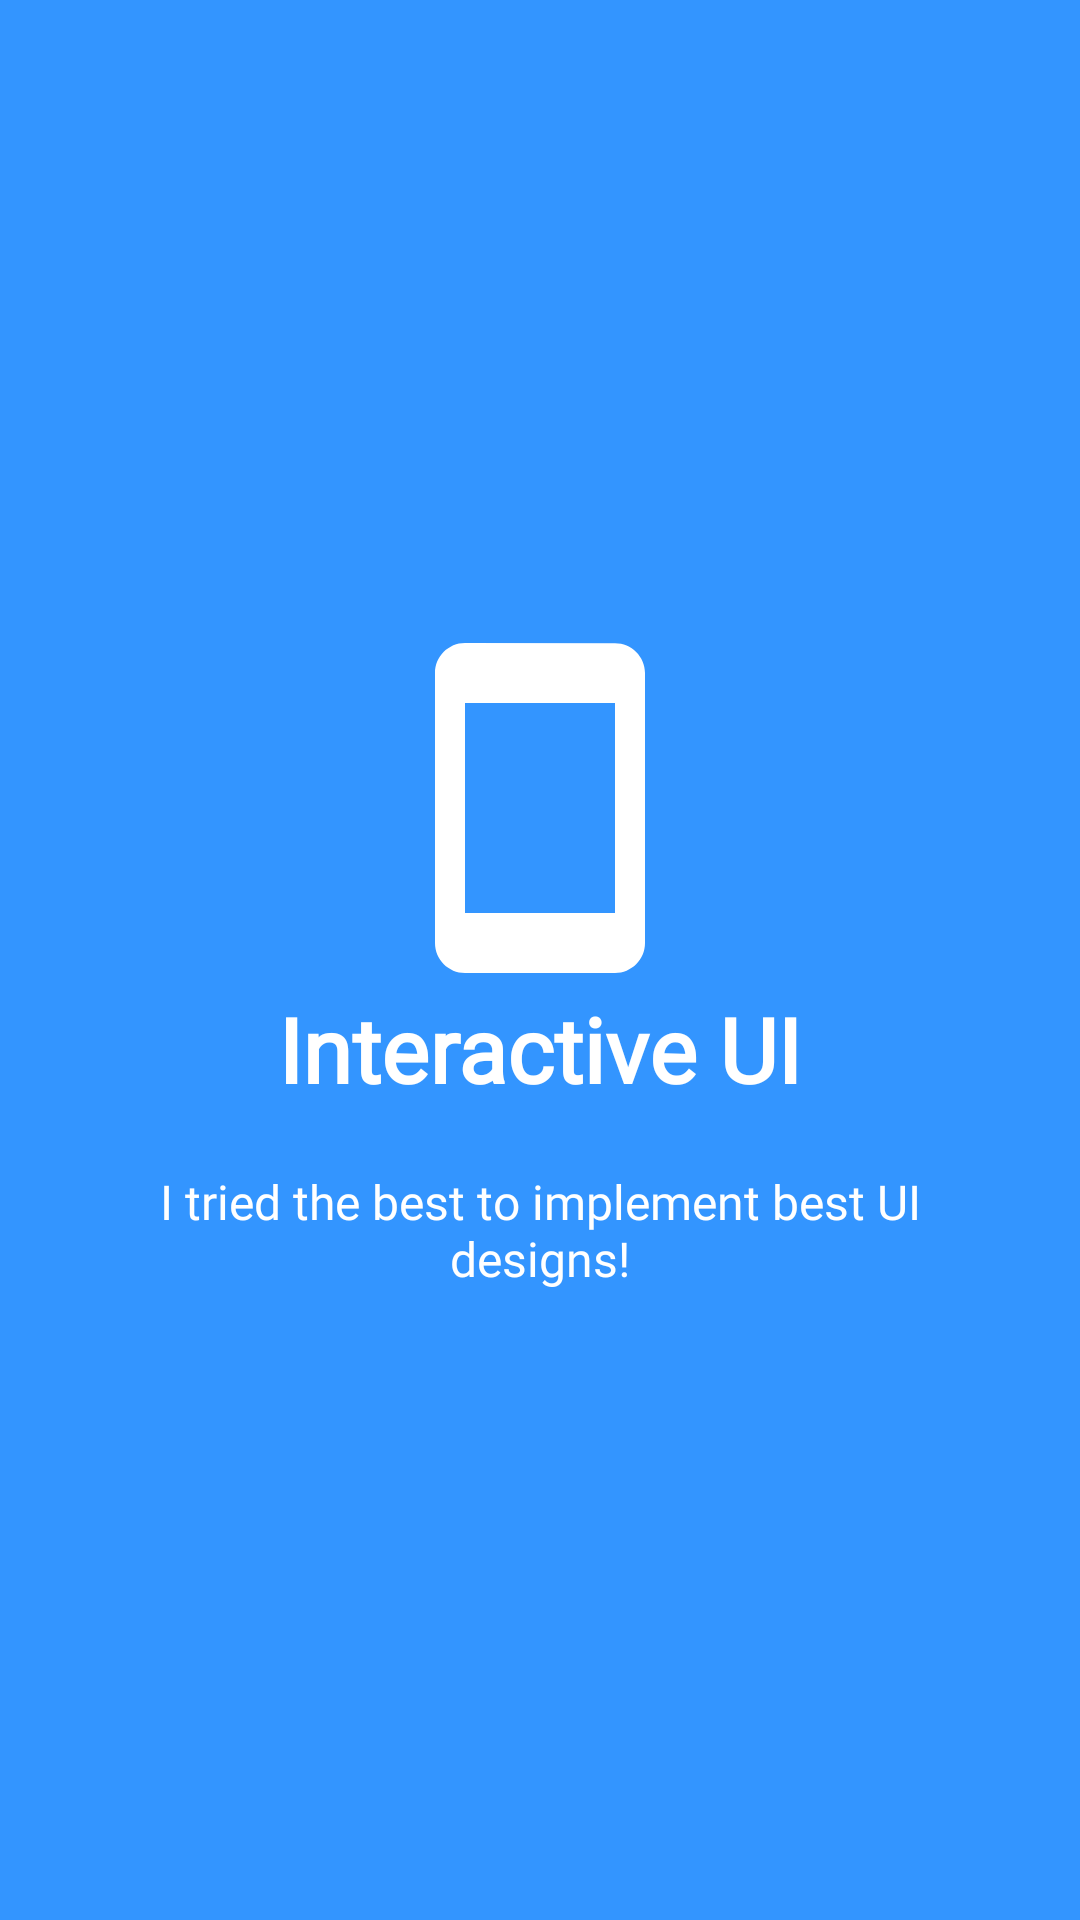

Icons on this 1080 x 1920 Android screen, each with its box as (x1, y1, x2, y2):
phone: (435, 643, 645, 973)
